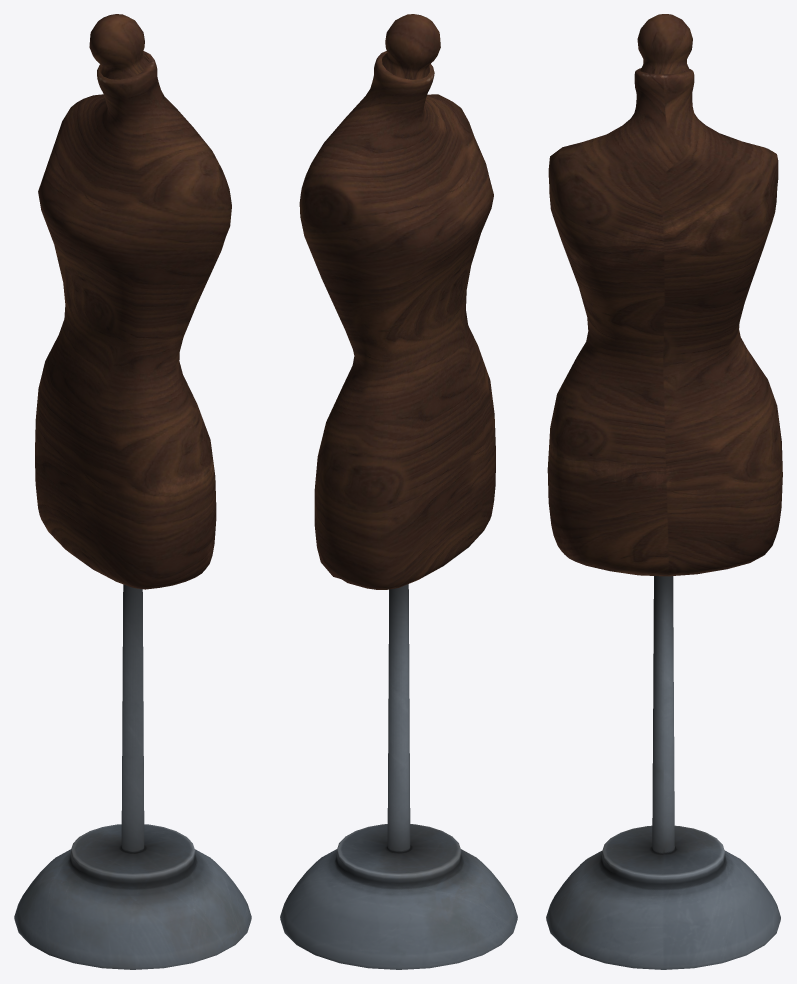
File: SM_WoodMannequin.fbx
3 renders of one model, left to right at view 1: azimuth 30°, elevation 25°; view 2: azimuth 150°, elevation 25°; view 3: azimuth 270°, elevation 25°, orthographic.
Visible parts, largest first — view 1: SM_WoodMannequin_LOD0; view 2: SM_WoodMannequin_LOD0; view 3: SM_WoodMannequin_LOD0.
Boxes of the visible parts, x1=… form: SM_WoodMannequin_LOD0: x1=14, y1=14, x2=251, y2=969; SM_WoodMannequin_LOD0: x1=280, y1=14, x2=517, y2=969; SM_WoodMannequin_LOD0: x1=546, y1=14, x2=782, y2=969.
Bounding box in the file's own units: 44.35 × 44.69 × 187.
Materials: 1 (1 with a texture image).
